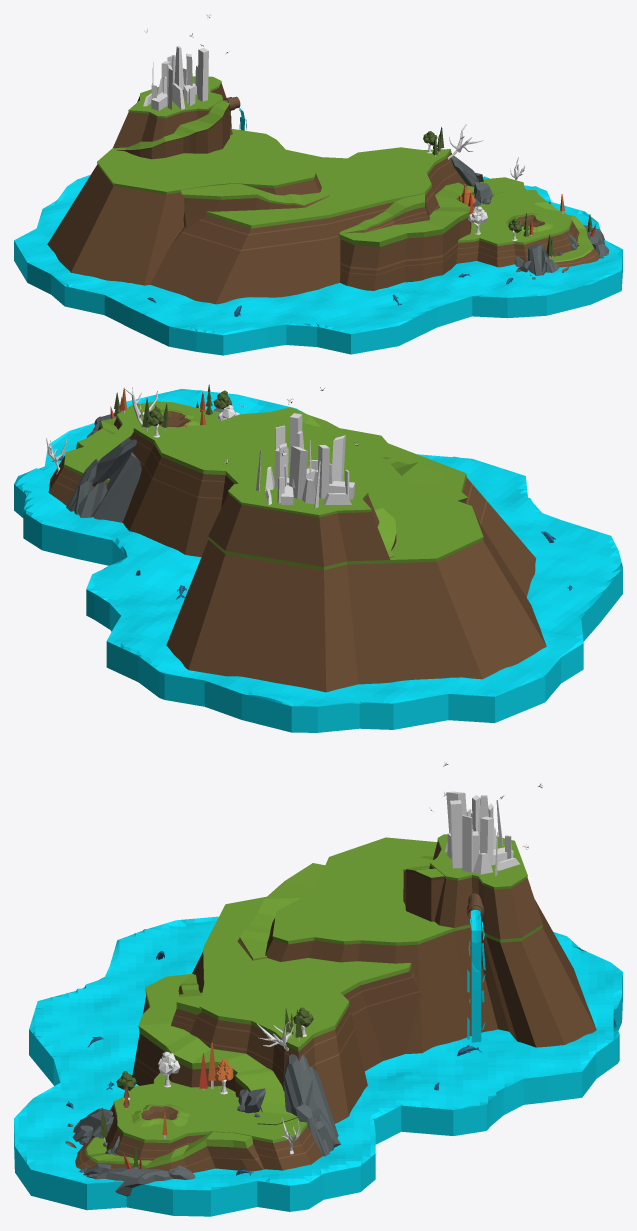
Rendered from Island-002.fbx.
3 renders of one model, top to bottom at view 1: azimuth 30°, elevation 25°; view 2: azimuth 150°, elevation 25°; view 3: azimuth 270°, elevation 25°, orthographic. The views are drawn at different scales.
Parts seen in each view (by area): view 1: Water_good, QuickShape.014, QuickShape.015, QuickShape.012, QuickShape.011, QuickShape.016, QuickShape.018, QuickShape.019, QuickShape.017, QuickShape.013, QuickShape.009, Cube (+1 smaller); view 2: Water_good, QuickShape.015, QuickShape.014, QuickShape.018, QuickShape.017, QuickShape.011, Cube.033, QuickShape.016, Cube.032, QuickShape.019, Cube.036, QuickShape.009; view 3: Water_good, QuickShape.015, QuickShape.014, QuickShape.011, QuickShape.012, QuickShape.018, QuickShape.009, QuickShape.017, QuickShape.016, QuickShape.019, Cylinder.009, Cube.032 (+4 smaller).
Boxes of the visible parts, <box> form: Water_good: <box>14,175,622,355</box>; QuickShape.014: <box>150,147,467,304</box>; QuickShape.015: <box>47,112,321,285</box>; QuickShape.012: <box>338,182,504,290</box>; QuickShape.011: <box>456,177,579,267</box>; QuickShape.016: <box>181,183,329,228</box>; QuickShape.018: <box>113,76,232,148</box>; QuickShape.019: <box>116,100,229,159</box>; QuickShape.017: <box>143,46,208,110</box>; QuickShape.013: <box>339,193,429,233</box>; QuickShape.009: <box>525,190,599,267</box>; Cube: <box>527,244,545,275</box>; Water_good: <box>14,389,622,732</box>; QuickShape.015: <box>166,446,546,692</box>; QuickShape.014: <box>123,412,536,597</box>; QuickShape.018: <box>208,472,390,566</box>; QuickShape.017: <box>256,413,354,508</box>; QuickShape.011: <box>48,401,220,522</box>; Cube.033: <box>93,452,141,522</box>; QuickShape.016: <box>378,456,467,503</box>; Cube.032: <box>92,436,136,486</box>; QuickShape.019: <box>288,464,396,557</box>; Cube.036: <box>77,482,107,517</box>; QuickShape.009: <box>76,418,117,448</box>; Water_good: <box>14,916,622,1216</box>; QuickShape.015: <box>265,837,596,1053</box>; QuickShape.014: <box>190,896,424,1123</box>; QuickShape.011: <box>105,1072,322,1170</box>; QuickShape.012: <box>132,973,297,1125</box>; QuickShape.018: <box>429,834,542,939</box>; QuickShape.009: <box>75,1132,263,1172</box>; QuickShape.017: <box>444,791,519,875</box>; QuickShape.016: <box>237,863,324,960</box>; QuickShape.019: <box>403,856,444,921</box>; Cylinder.009: <box>467,909,485,1042</box>; Cube.032: <box>283,1054,314,1116</box>.
Bounding box in the file's own units: 48.47 × 20.21 × 42.17.
